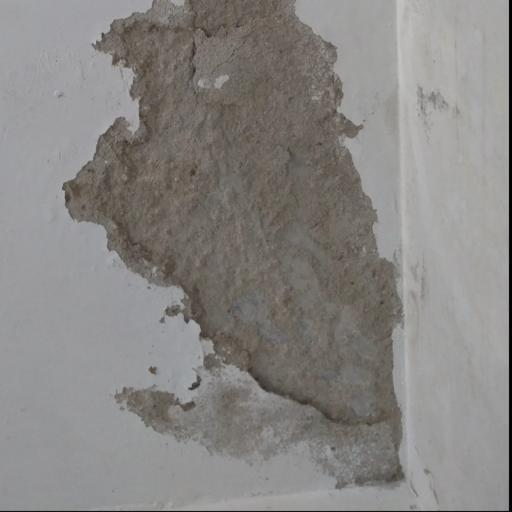spalling: (59, 0, 412, 492)
